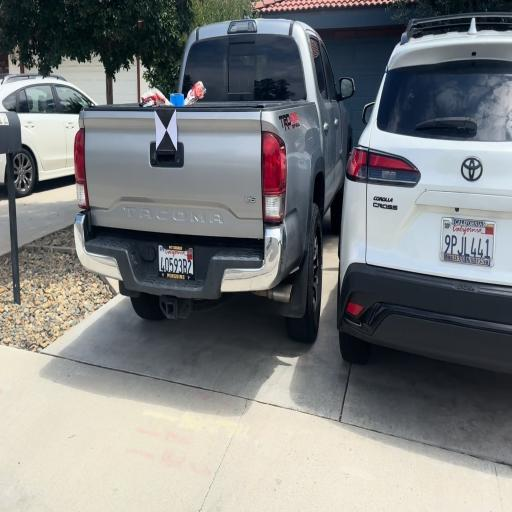target: (155, 110, 177, 151)
